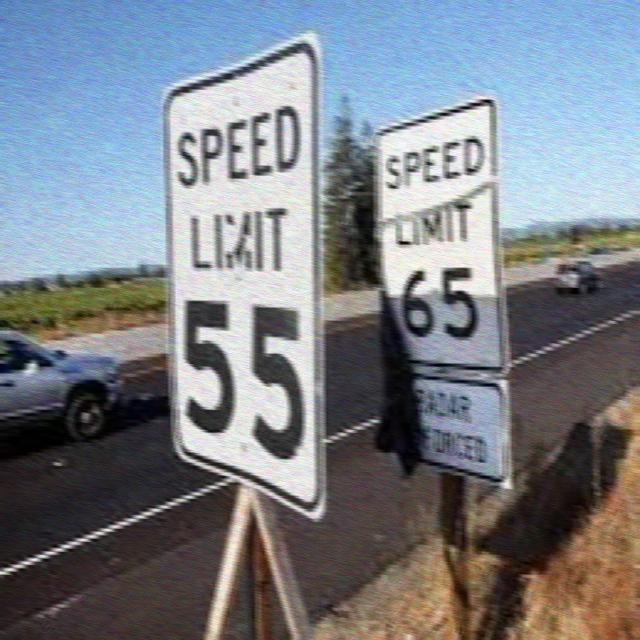speedLimit55: (165, 34, 322, 497)
speedLimit65: (374, 122, 511, 366)
